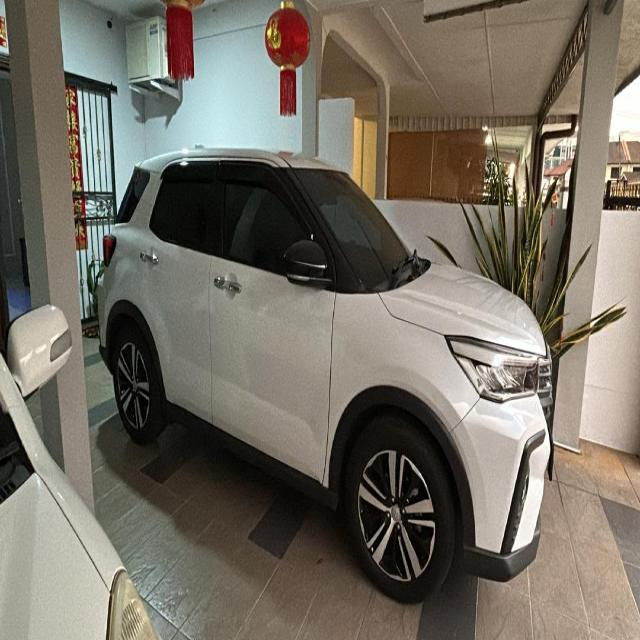PeroduaAtiva: (95, 143, 556, 604)
